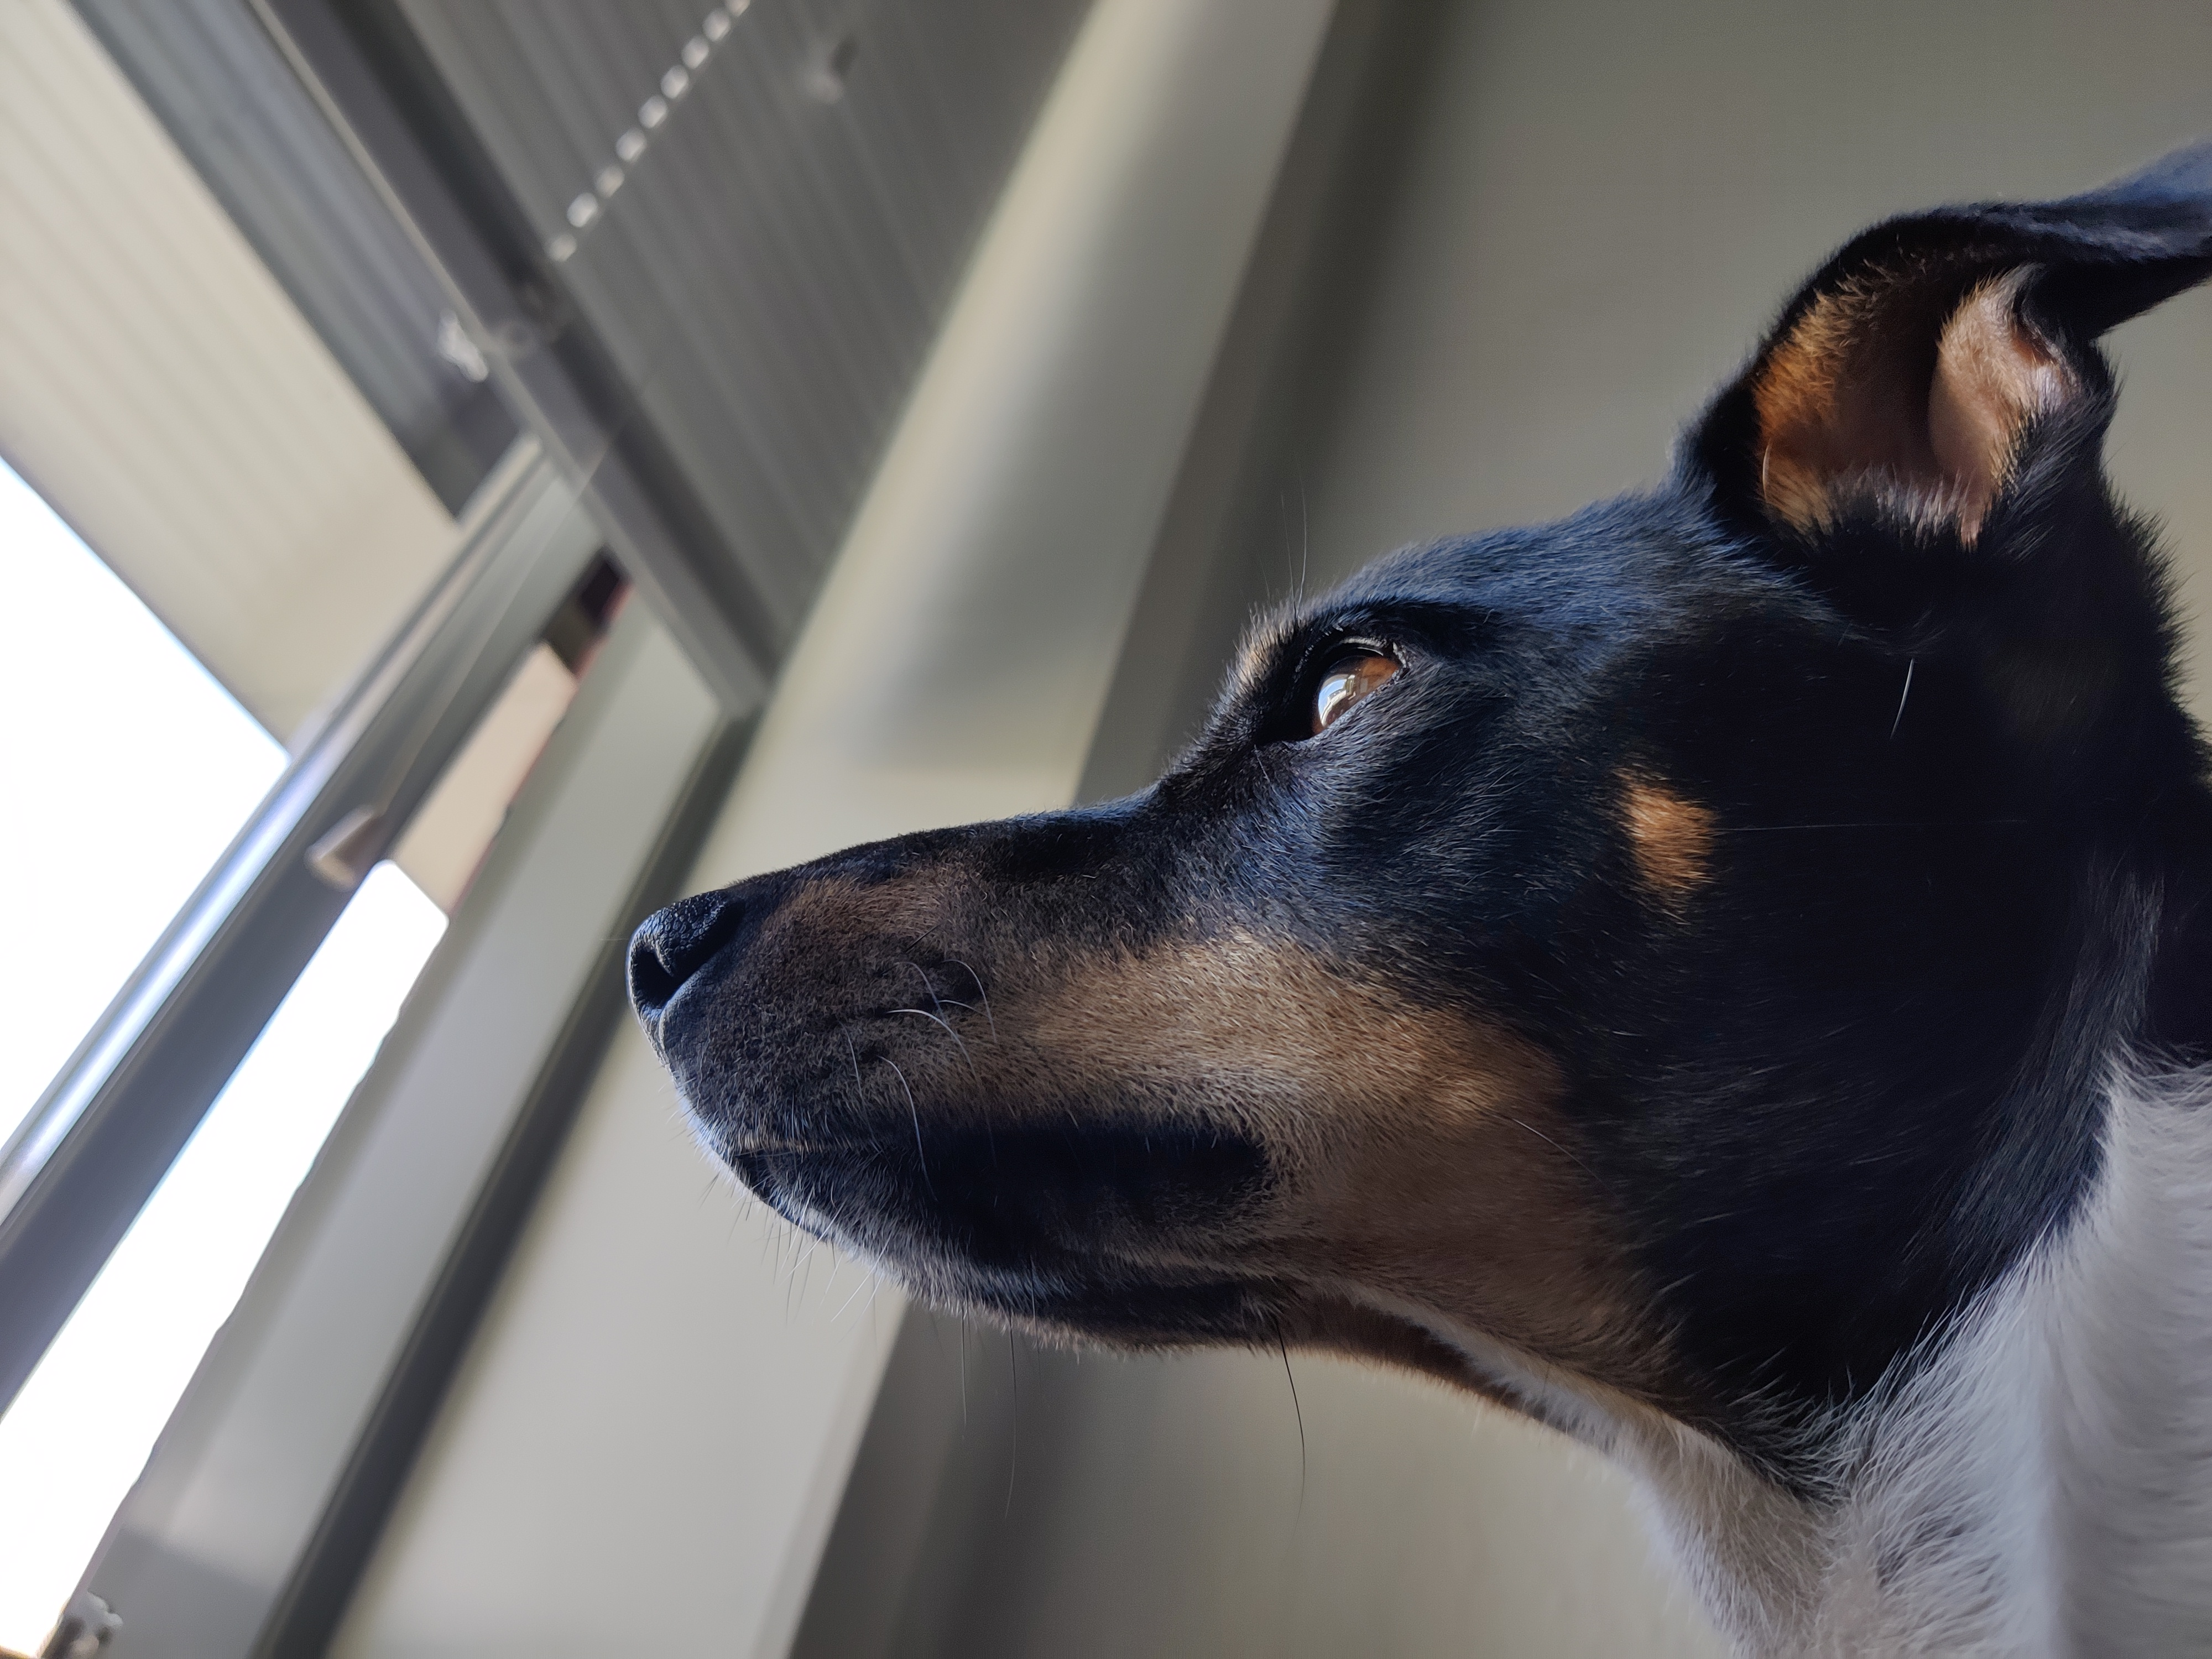Dog: (597, 120, 2212, 1659)
